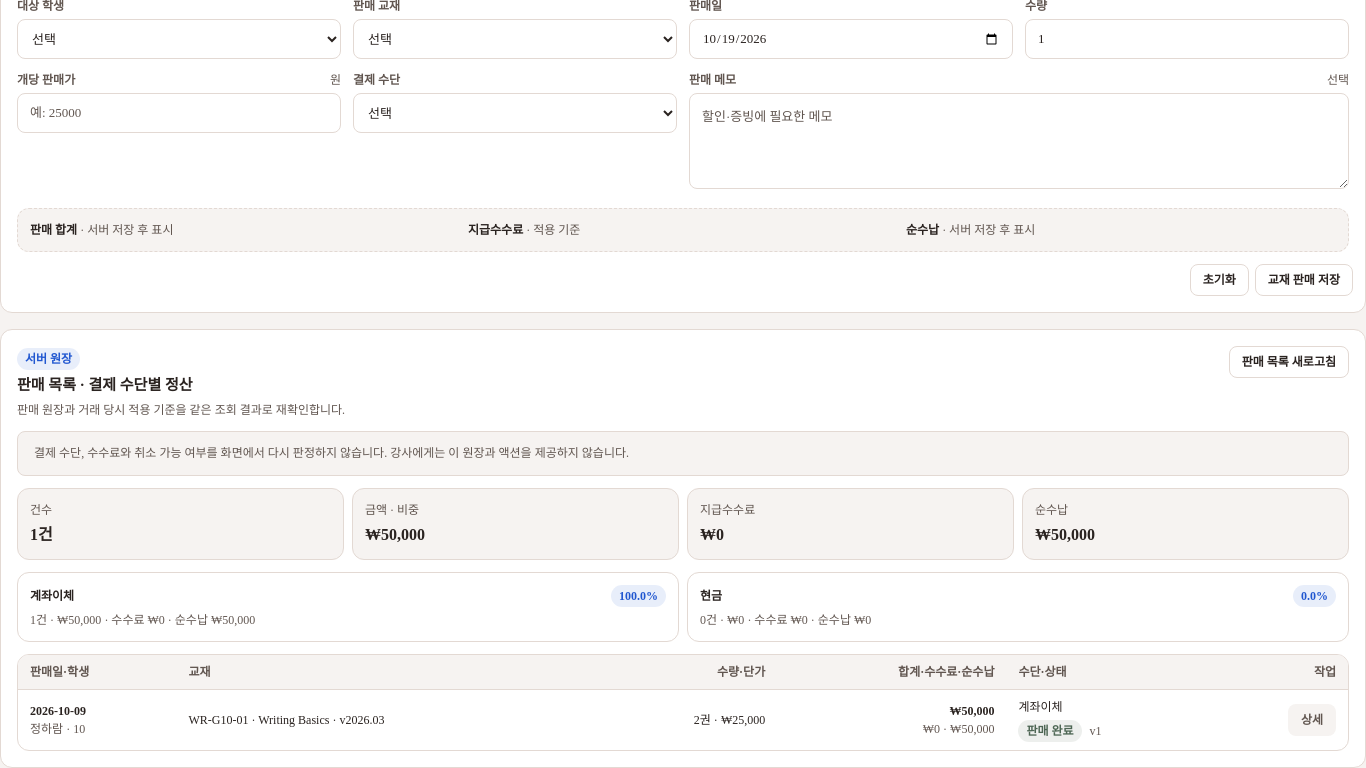
Test: 판매 취소는 목록의 서버 version과 사유·새 요청 키를 전용 경로로 보낸다
(page scrolled)
Click the button "상세".
click(1312, 720)  # box [1288,704,1336,736]
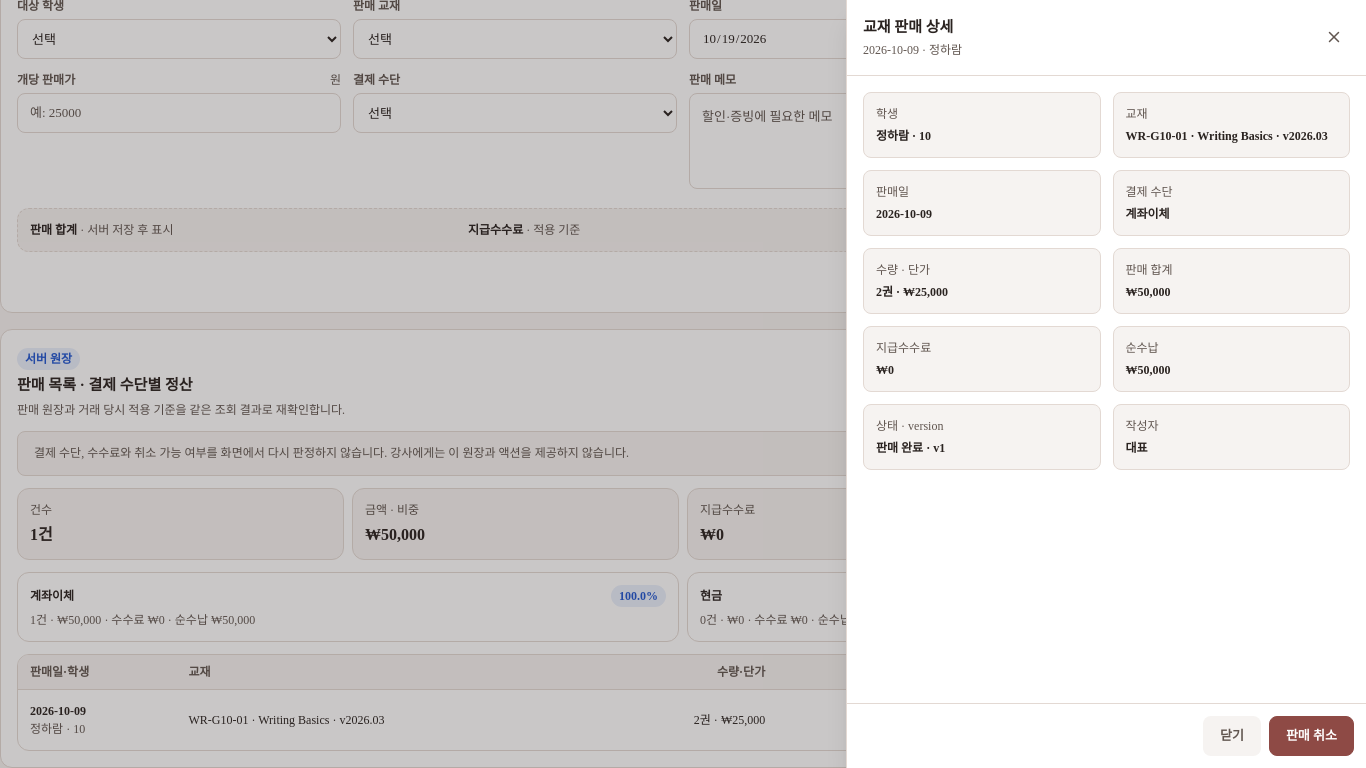
Click the button "판매 취소".
click(1311, 736)  # box [1269,716,1354,756]
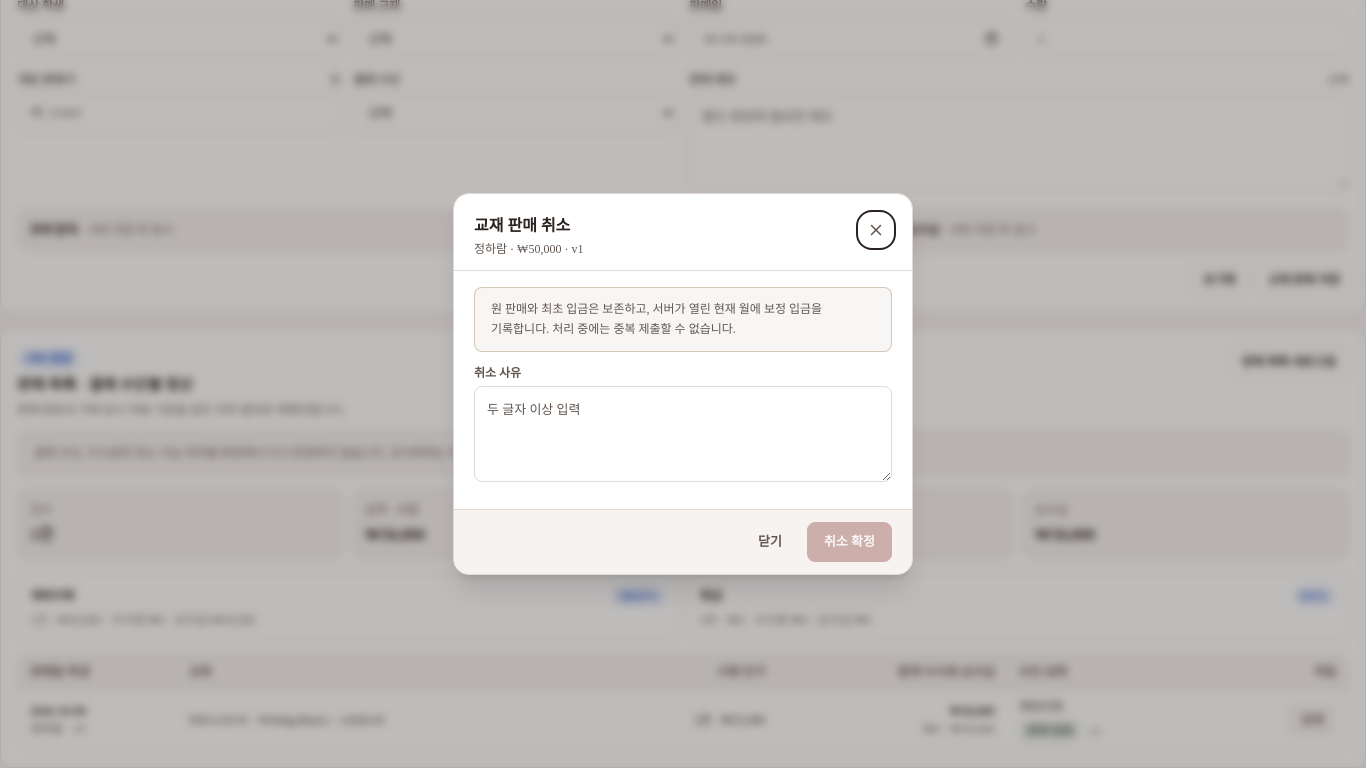
Type "중복 판매 정정" into the text box labelled "취소 사유".
click(683, 434); type("중복 판매 정정")  # box [474,386,892,482]
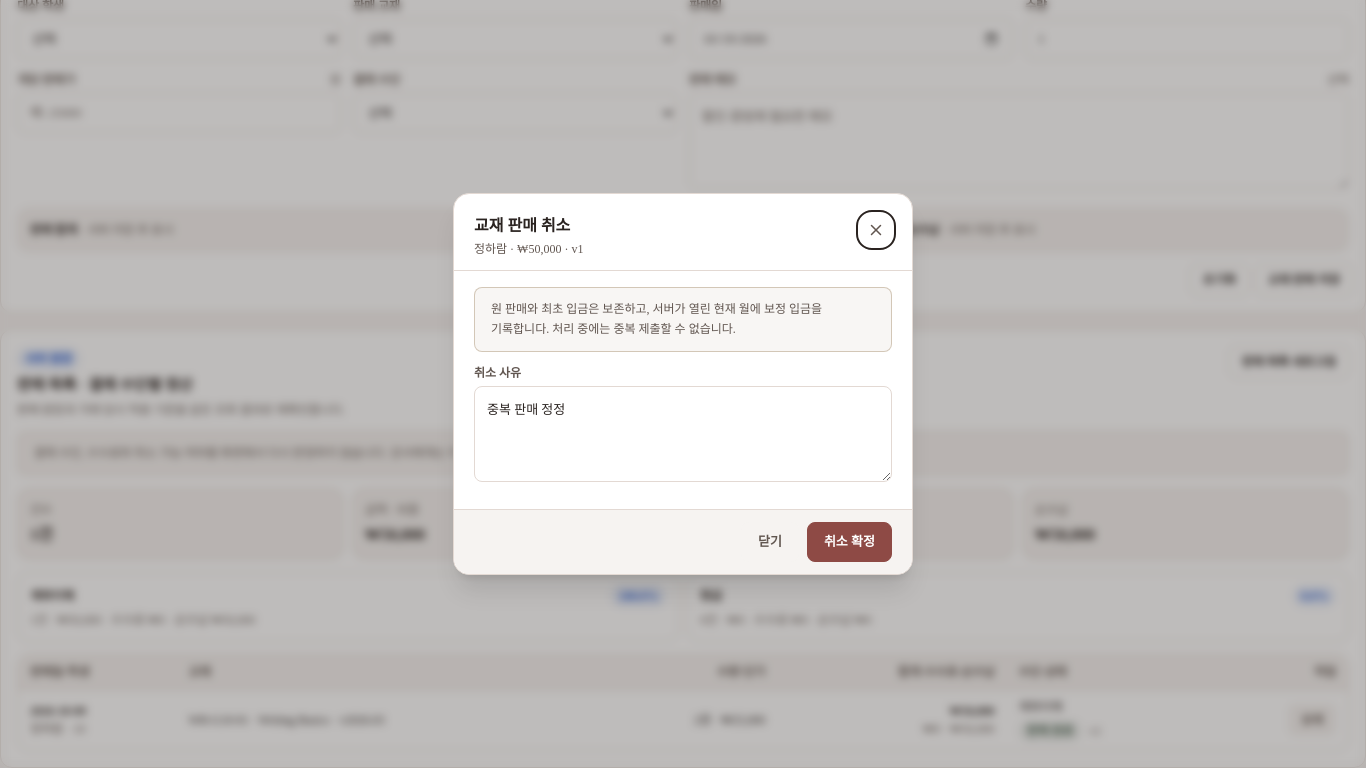
Click the button "취소 확정".
click(849, 542)  # box [807,522,892,562]
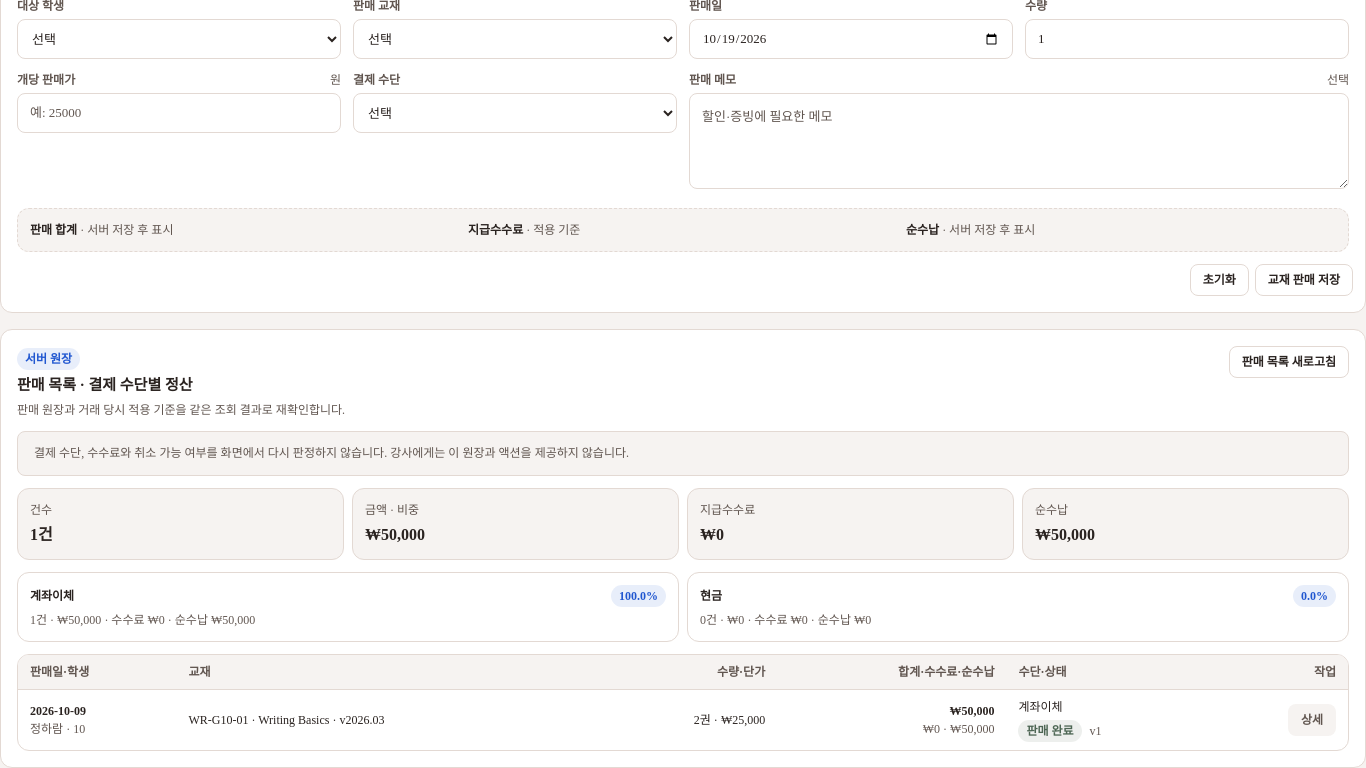
Now the heading "교재 판매 취소" is gone
